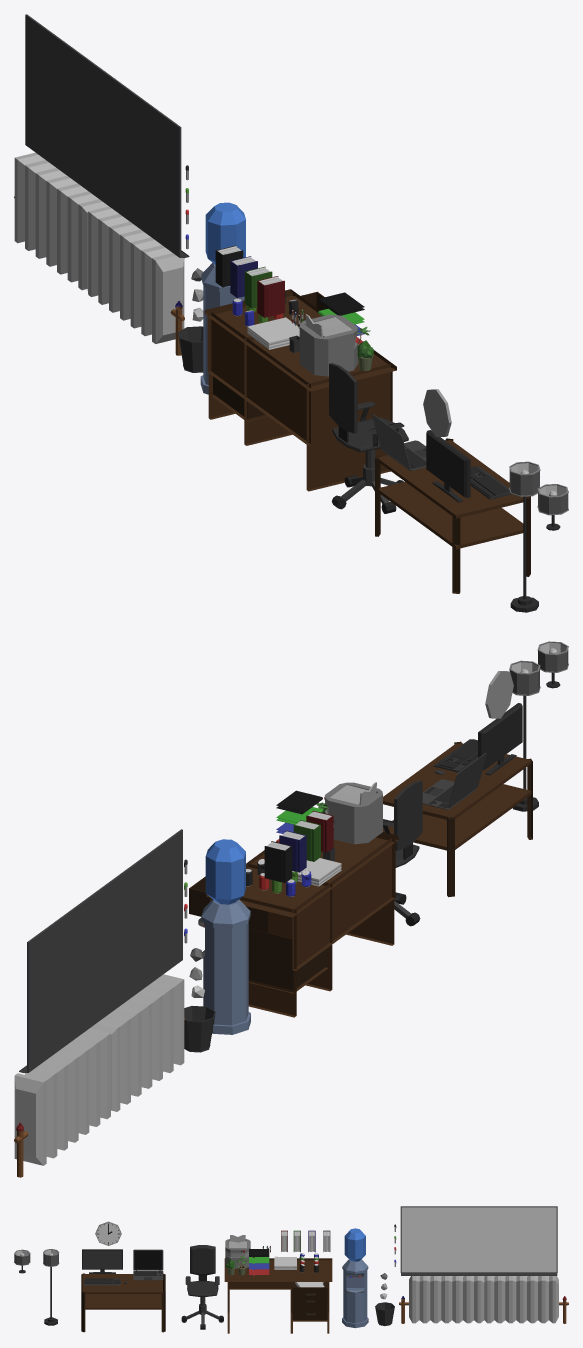
File: Office Props.fbx
3 renders of one model, top to bottom at view 1: azimuth 30°, elevation 25°; view 2: azimuth 150°, elevation 25°; view 3: azimuth 270°, elevation 25°, orthographic. The views are drawn at different scales.
Visible parts, largest first — view 1: Desk, Battery, Cube.002, Table1, Chair, Water, Printer, Computer, BigLamp, Laptop, Cube.003, Cylinder.009 (+4 smaller); view 2: Desk, Battery, Cube.002, Water, Table1, Printer, Computer, Chair, Laptop, BigLamp, Cylinder.009, Plane.049 (+7 smaller); view 3: Desk, Battery, Cube.002, Table1, Water, Chair, Computer, Laptop, Cube, Printer, Clock, BigLamp (+3 smaller).
Boxes of the visible parts, box(x1,y1,x2,y2) form: Desk: box(25, 14, 189, 258); Battery: box(14, 152, 184, 355); Cube.002: box(204, 289, 396, 491); Table1: box(375, 438, 530, 593); Chair: box(329, 363, 408, 513); Water: box(200, 202, 245, 394); Printer: box(299, 314, 357, 376); Computer: box(426, 430, 511, 502); BigLamp: box(509, 461, 540, 612); Laptop: box(372, 414, 426, 470); Cube.003: box(247, 317, 299, 349); Cylinder.009: box(178, 326, 203, 372); Desk: box(19, 829, 182, 1072); Battery: box(14, 974, 184, 1177); Cube.002: box(206, 832, 398, 1017); Water: box(198, 839, 250, 1034); Table1: box(383, 741, 532, 897); Printer: box(324, 782, 382, 844); Computer: box(433, 703, 522, 775); Chair: box(383, 780, 422, 926); Laptop: box(422, 753, 486, 809); BigLamp: box(509, 660, 540, 811); Cylinder.009: box(184, 1006, 215, 1052); Plane.049: box(264, 841, 292, 882); Desk: box(400, 1206, 557, 1275); Battery: box(399, 1276, 568, 1323); Cube.002: box(224, 1258, 332, 1333); Table1: box(81, 1273, 165, 1332); Water: box(342, 1228, 368, 1328); Chair: box(181, 1245, 223, 1329); Computer: box(82, 1249, 127, 1285); Laptop: box(133, 1249, 163, 1280); Cube: box(292, 1282, 327, 1300); Printer: box(225, 1235, 250, 1268); Clock: box(95, 1221, 121, 1245); BigLamp: box(43, 1249, 59, 1325).
Size of the model in its own units: 303 by 598 by 2581.
